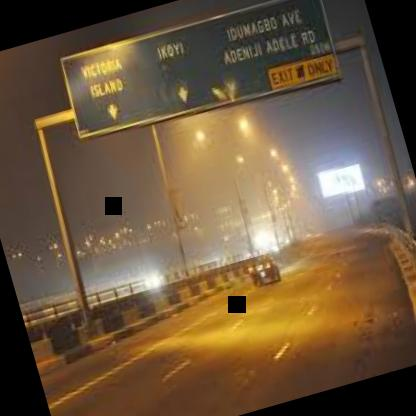car: (240, 246, 291, 302)
